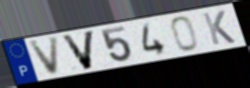0: (168, 14, 203, 53)
4: (141, 22, 168, 56)
5: (98, 26, 134, 64)
K: (201, 9, 238, 47)
V: (59, 28, 97, 71), (27, 34, 61, 77)
